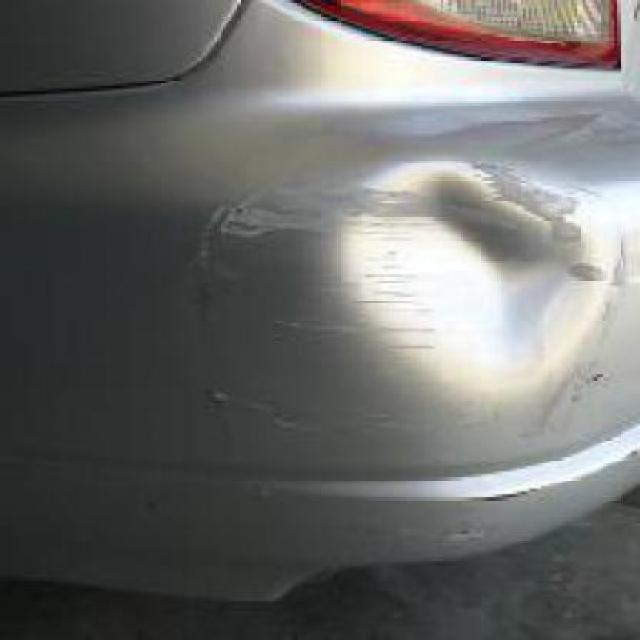dent-or-scratch: (252, 143, 638, 423)
